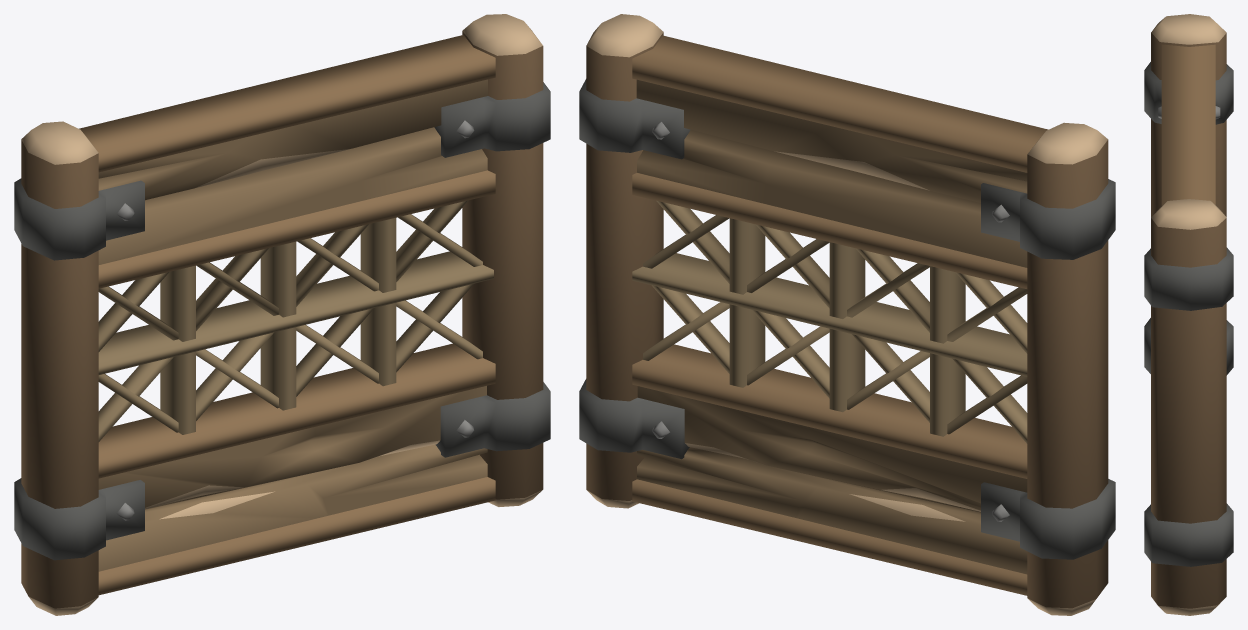
Rendered from rpgpp_ag_shelf_wood_04b.fbx.
3 views of the same model, side by side, from view 1: azimuth 30°, elevation 25°; view 2: azimuth 150°, elevation 25°; view 3: azimuth 270°, elevation 25° (orthographic). The views are drawn at different scales.
Parts seen in each view (by area): view 1: rpgpp_ag_shelf_wood_04b; view 2: rpgpp_ag_shelf_wood_04b; view 3: rpgpp_ag_shelf_wood_04b.
Boxes of the visible parts, x1,y1,x2,y2 form: rpgpp_ag_shelf_wood_04b: (14,14,550,615); rpgpp_ag_shelf_wood_04b: (579,14,1115,615); rpgpp_ag_shelf_wood_04b: (1144,14,1233,615).
Size of the model in its own units: 2.01 by 1.74 by 0.3535.
